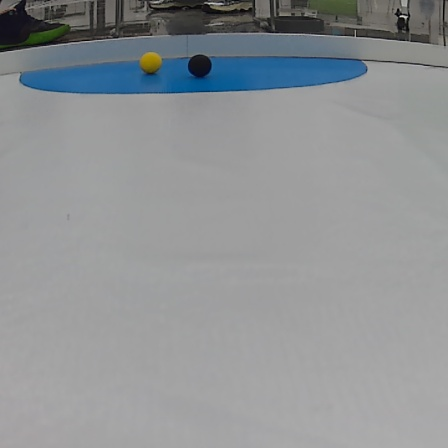black: (189, 58, 213, 76)
blue_base: (18, 56, 375, 92)
yellow: (139, 51, 163, 72)
